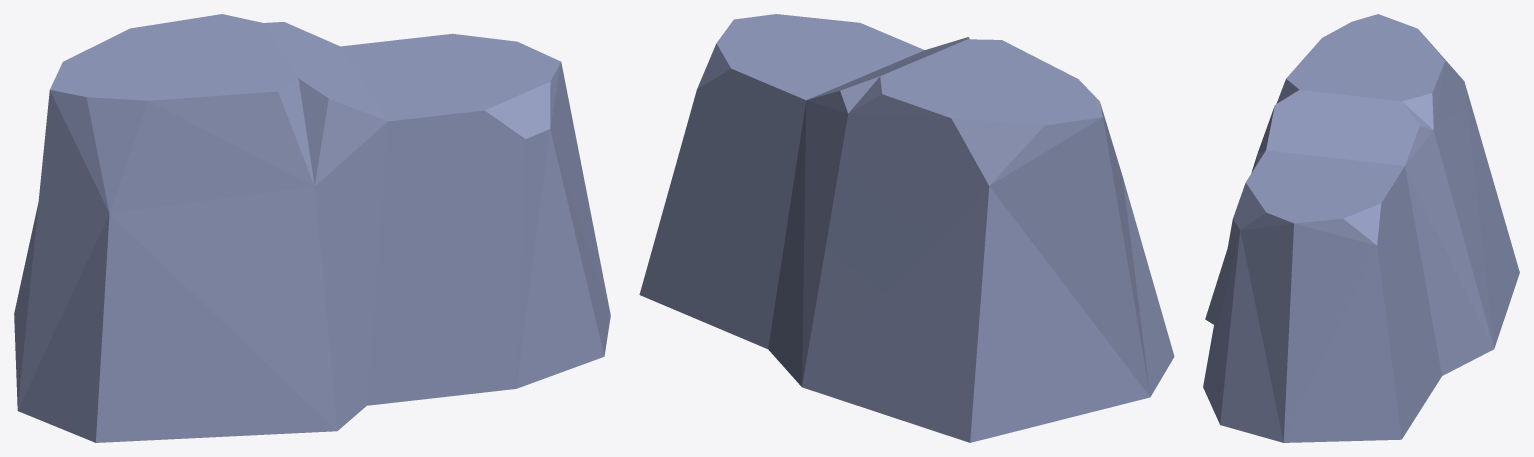
File: Rock_4.fbx
3 renders of one model, left to right at view 1: azimuth 30°, elevation 25°; view 2: azimuth 150°, elevation 25°; view 3: azimuth 270°, elevation 25°, orthographic. The views are drawn at different scales.
Visible parts, largest first — view 1: Rock_4; view 2: Rock_4; view 3: Rock_4.
Part boxes in pixels (x1,y1,x2,y2): Rock_4: (14,14,610,442); Rock_4: (639,14,1174,442); Rock_4: (1203,14,1519,442).
Bounding box in the file's own units: 4.38 × 2.34 × 2.83.
